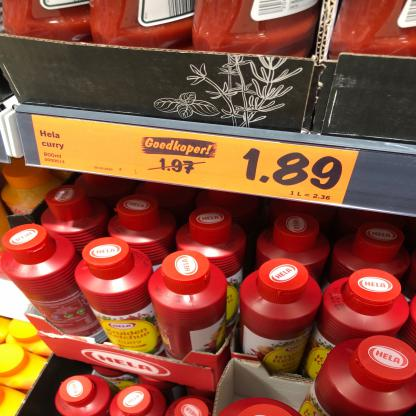prtg: (32, 115, 360, 206)
